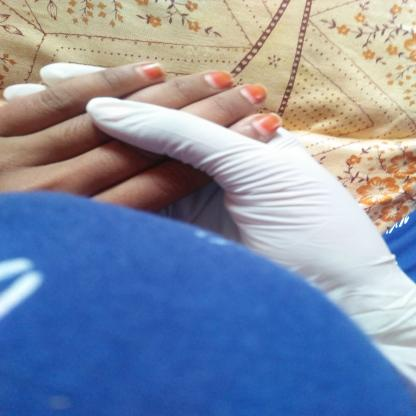gloved_hand: (3, 61, 416, 397)
